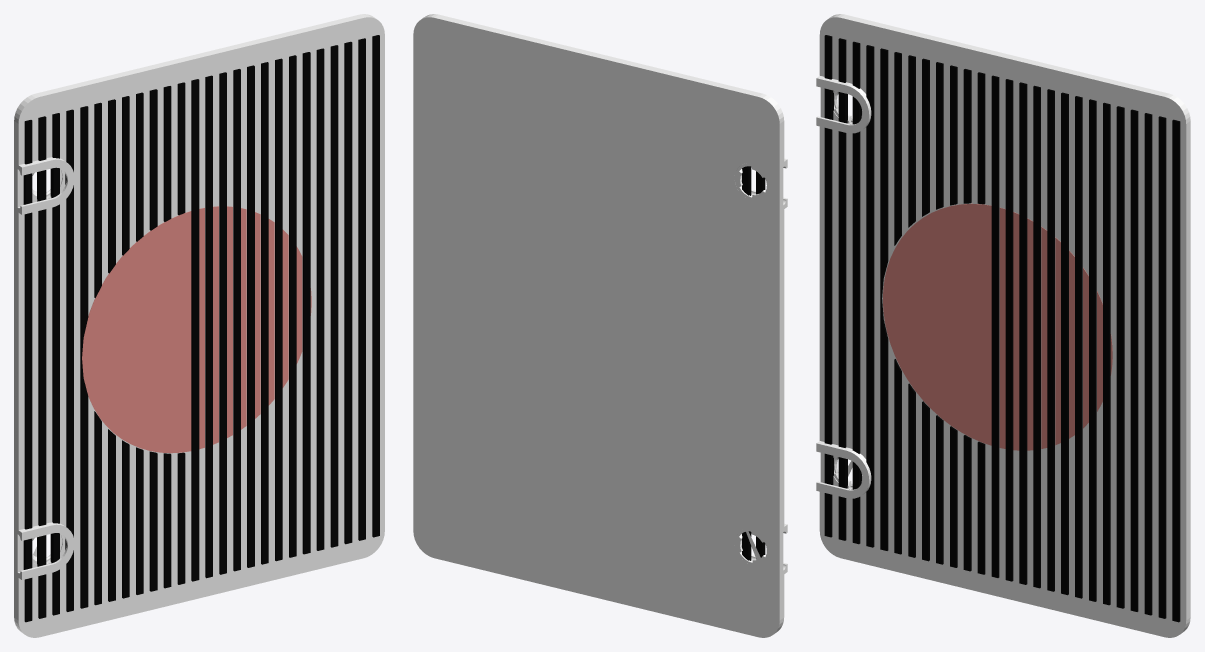
File: a6_only_cover_v1.glb
3 views of the same model, side by side, from view 1: azimuth 30°, elevation 25°; view 2: azimuth 150°, elevation 25°; view 3: azimuth 330°, elevation 25° (orthographic).
Visible parts, largest first — view 1: Body1, Body41, Body12.001, Body26, Body21, Body28, Body5.001, Body20, Body4.001, Body3.001, Body29, Body11.001 (+31 smaller); view 2: Body1; view 3: Body1, Body41, Body21, Body7.001, Body12.001, Body13.001, Body26, Body5.001, Body10.001, Body29, Body14.001, Body20 (+31 smaller).
Boxes of the visible parts, x1,y1,x2,y2 form: Body1: (14, 14, 384, 637); Body41: (82, 211, 191, 453); Body12.001: (316, 48, 324, 550); Body26: (191, 79, 199, 581); Body21: (344, 41, 352, 544); Body28: (302, 52, 310, 554); Body5.001: (330, 45, 338, 547); Body20: (37, 116, 46, 618); Body4.001: (23, 120, 32, 622); Body3.001: (80, 106, 88, 608); Body29: (358, 38, 365, 540); Body11.001: (261, 62, 268, 564); Body1: (413, 14, 787, 637); Body1: (816, 14, 1190, 637); Body41: (883, 203, 991, 445); Body21: (1144, 113, 1152, 615); Body7.001: (1019, 82, 1027, 584); Body12.001: (1116, 106, 1124, 608); Body13.001: (1172, 119, 1180, 622); Body26: (991, 75, 999, 577); Body5.001: (1130, 109, 1138, 611); Body10.001: (1005, 79, 1013, 581); Body29: (1158, 116, 1166, 618); Body14.001: (866, 45, 874, 547); Body20: (838, 38, 847, 540).
Size of the model in its own units: 0.105 by 0.148 by 0.0039.
